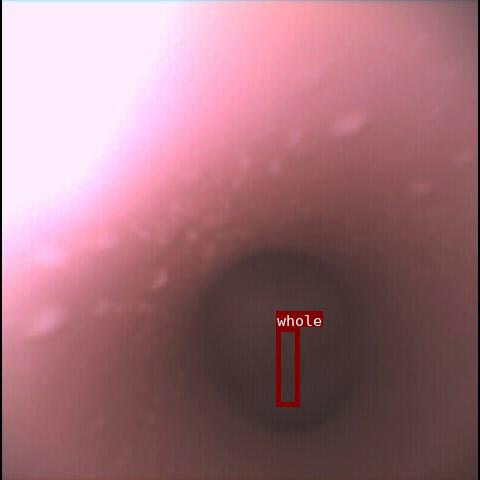whole: (276, 327, 299, 406)
